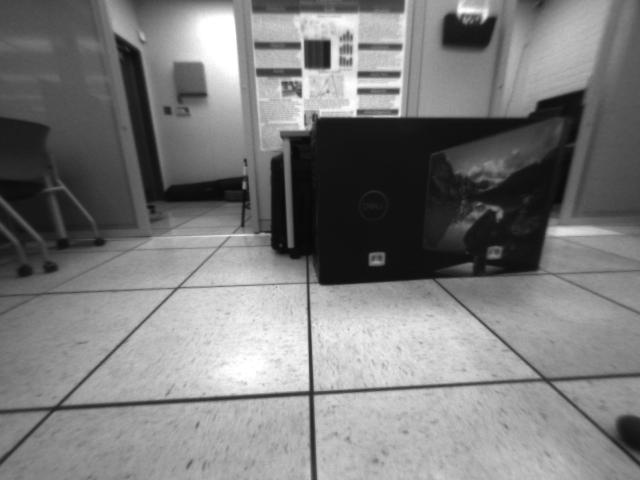dogtoy: (611, 407, 640, 456)
